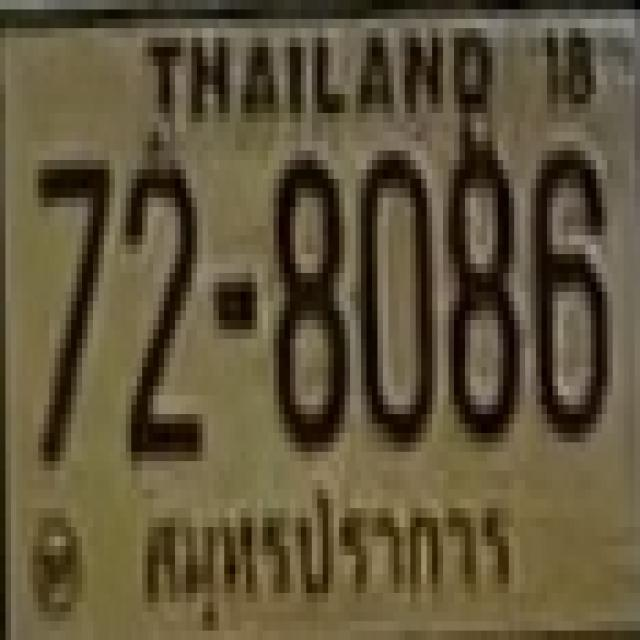0: (356, 142, 432, 442)
2: (123, 150, 200, 452)
6: (528, 141, 604, 433)
7: (33, 156, 109, 457)
8: (268, 150, 345, 442), (443, 141, 514, 433)
SPK: (133, 482, 514, 614)
